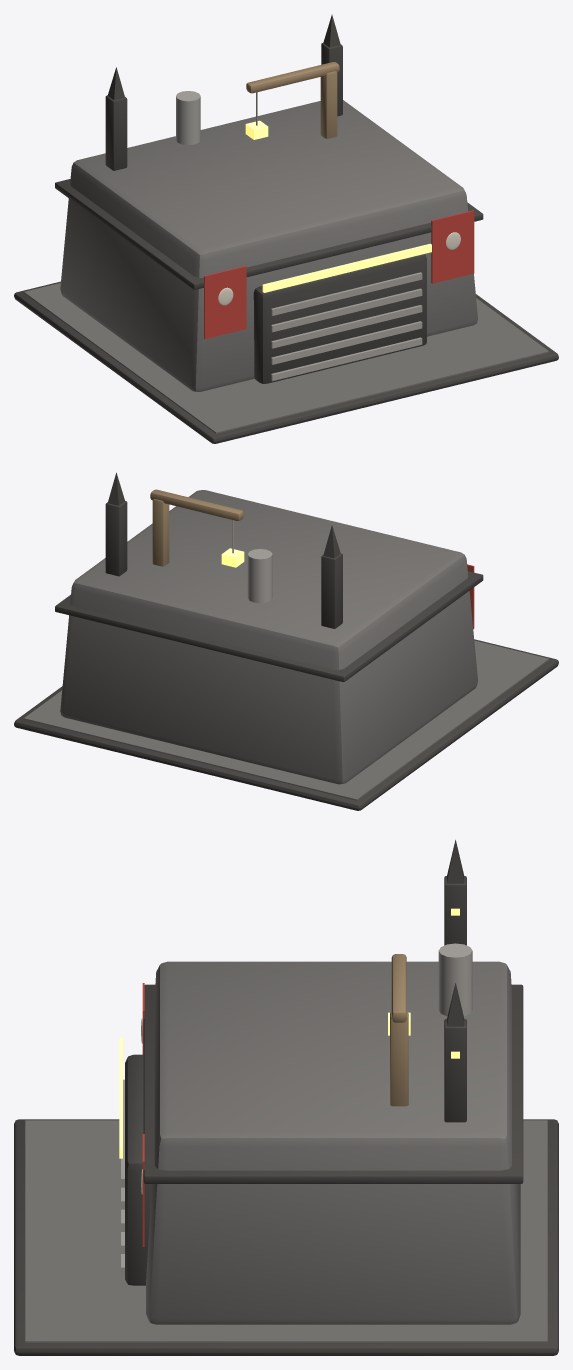
File: factory_hum.glb
3 views of the same model, one above another, from view 1: azimuth 30°, elevation 25°; view 2: azimuth 150°, elevation 25°; view 3: azimuth 270°, elevation 25° (orthographic). The views are drawn at different scales.
Parts seen in each view (by area): view 1: factory_hum; view 2: factory_hum; view 3: factory_hum.
Part boxes in pixels (<box>): factory_hum: <box>14,14,558,443</box>; factory_hum: <box>14,472,558,810</box>; factory_hum: <box>14,840,558,1355</box>.
Bounding box in the file's own units: 2.9 × 1.95 × 2.9.
